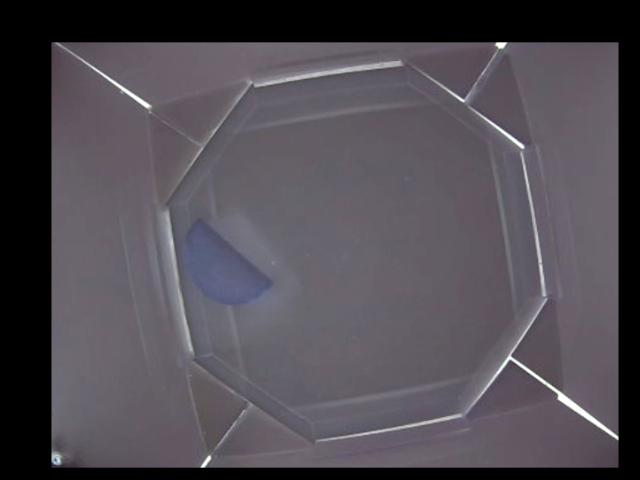Mooli: (185, 215, 272, 303)
